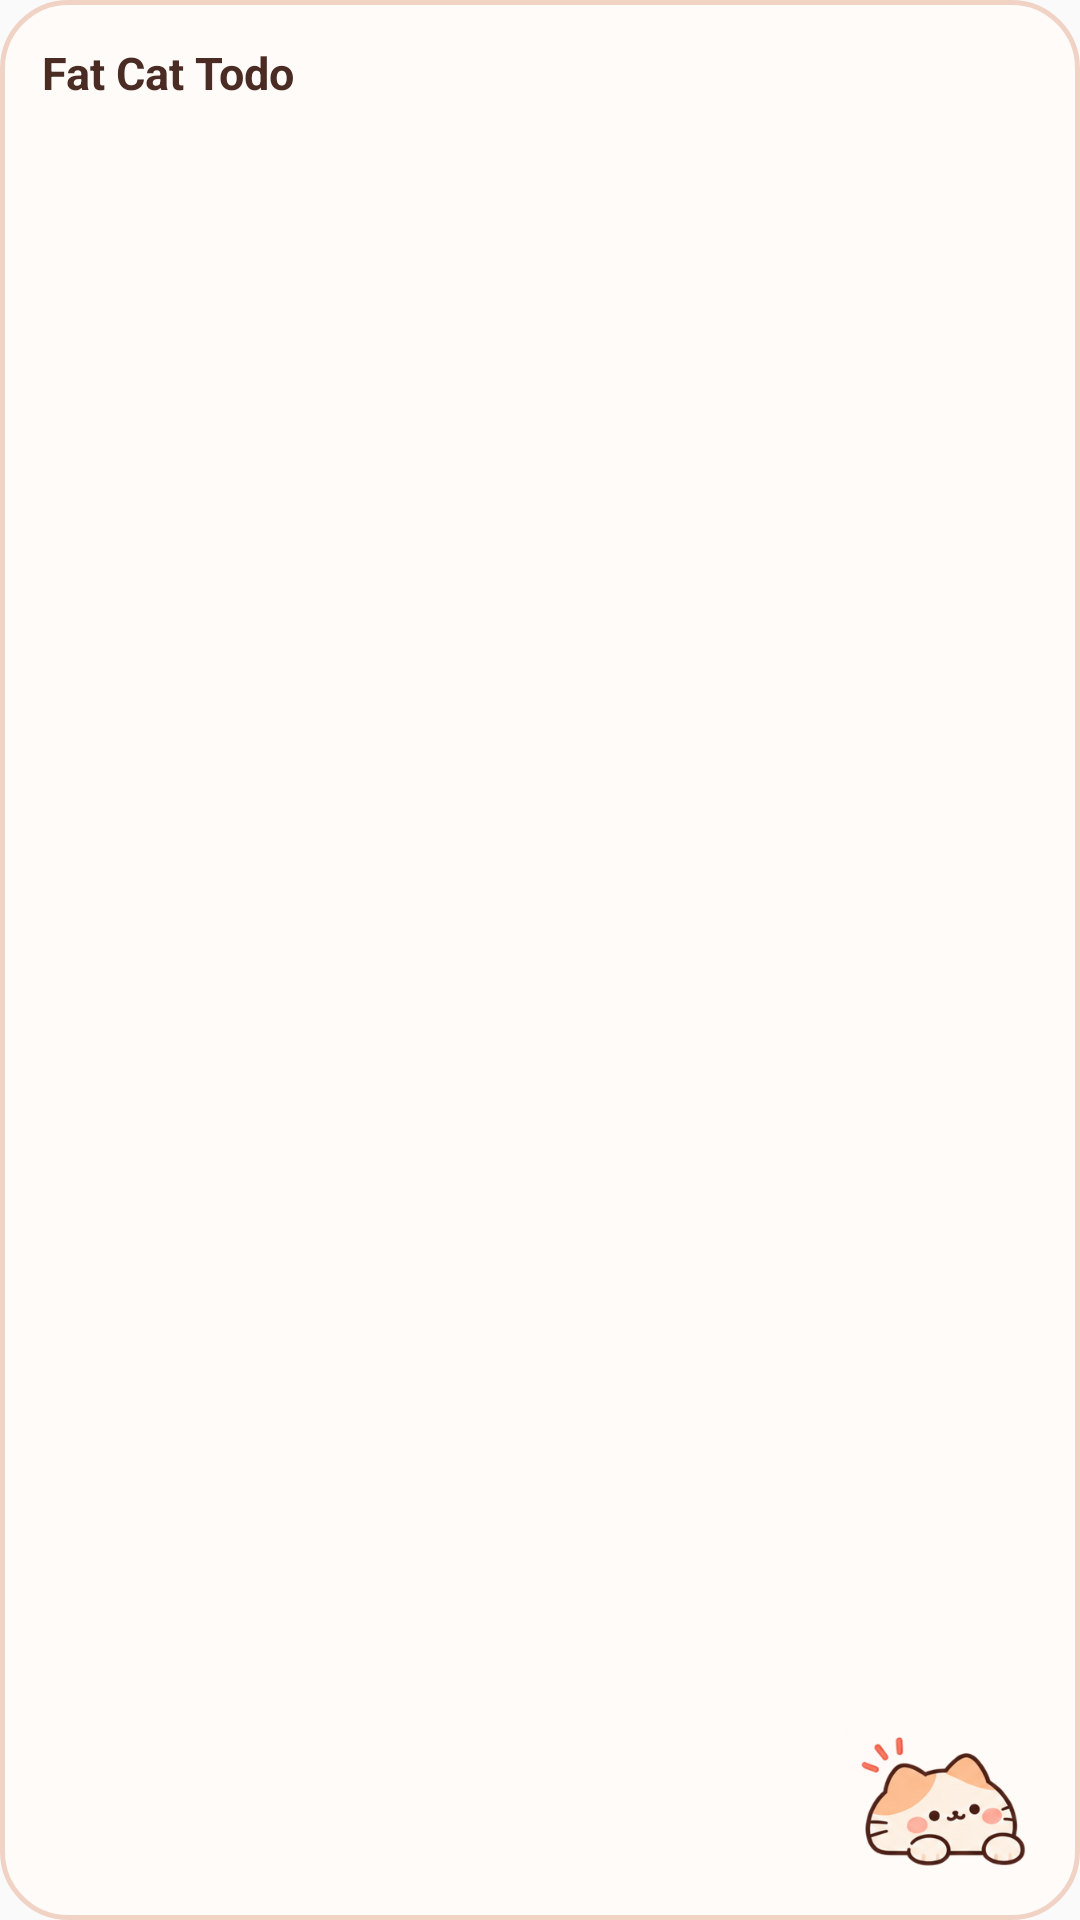

Icon click points for this 1080*1920 phone screenshot, format (x=x, y=y):
widget cat: (x=943, y=1801)
